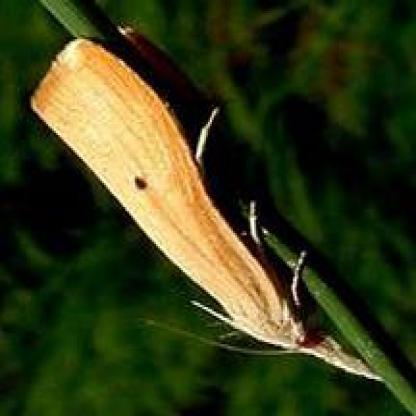stem-borer: (26, 33, 390, 385)
